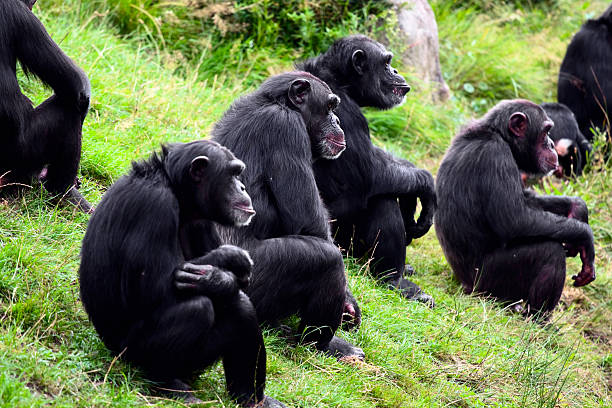chimpanzee: (157, 131, 265, 246), (269, 67, 352, 169), (335, 30, 429, 119), (489, 93, 564, 185)
